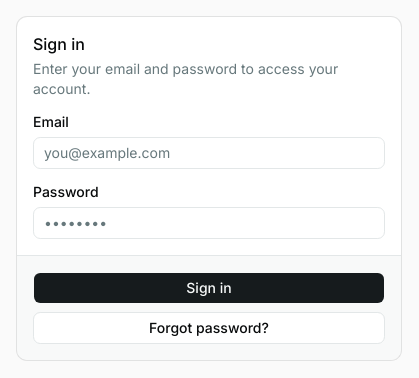
Test case: Login page › disables the Sign in button while loading
Type "a@b.com" into the field labelled "Email" at (209, 152), box x1=33 y1=136 x2=385 y2=168
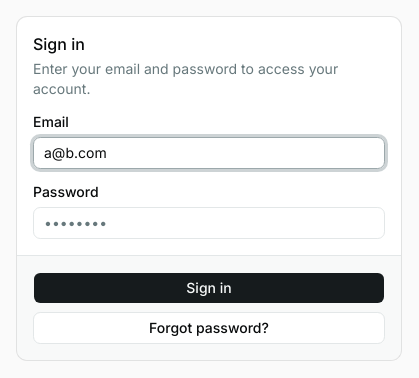
Type "pass" into the password field labelled "Password" at (209, 222), box x1=33 y1=206 x2=385 y2=238
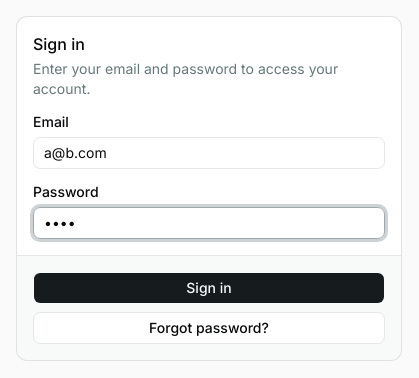
Click the button "Sign in" at (209, 288), box x1=33 y1=272 x2=385 y2=304
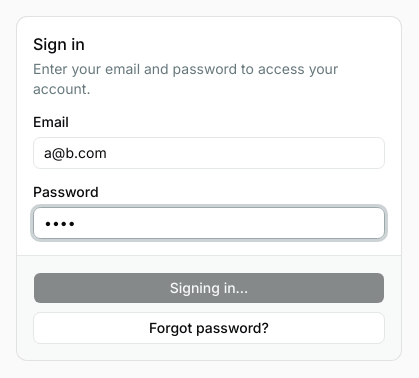
Check: the button "Signing in…" is disabled, box x1=33 y1=272 x2=385 y2=304
